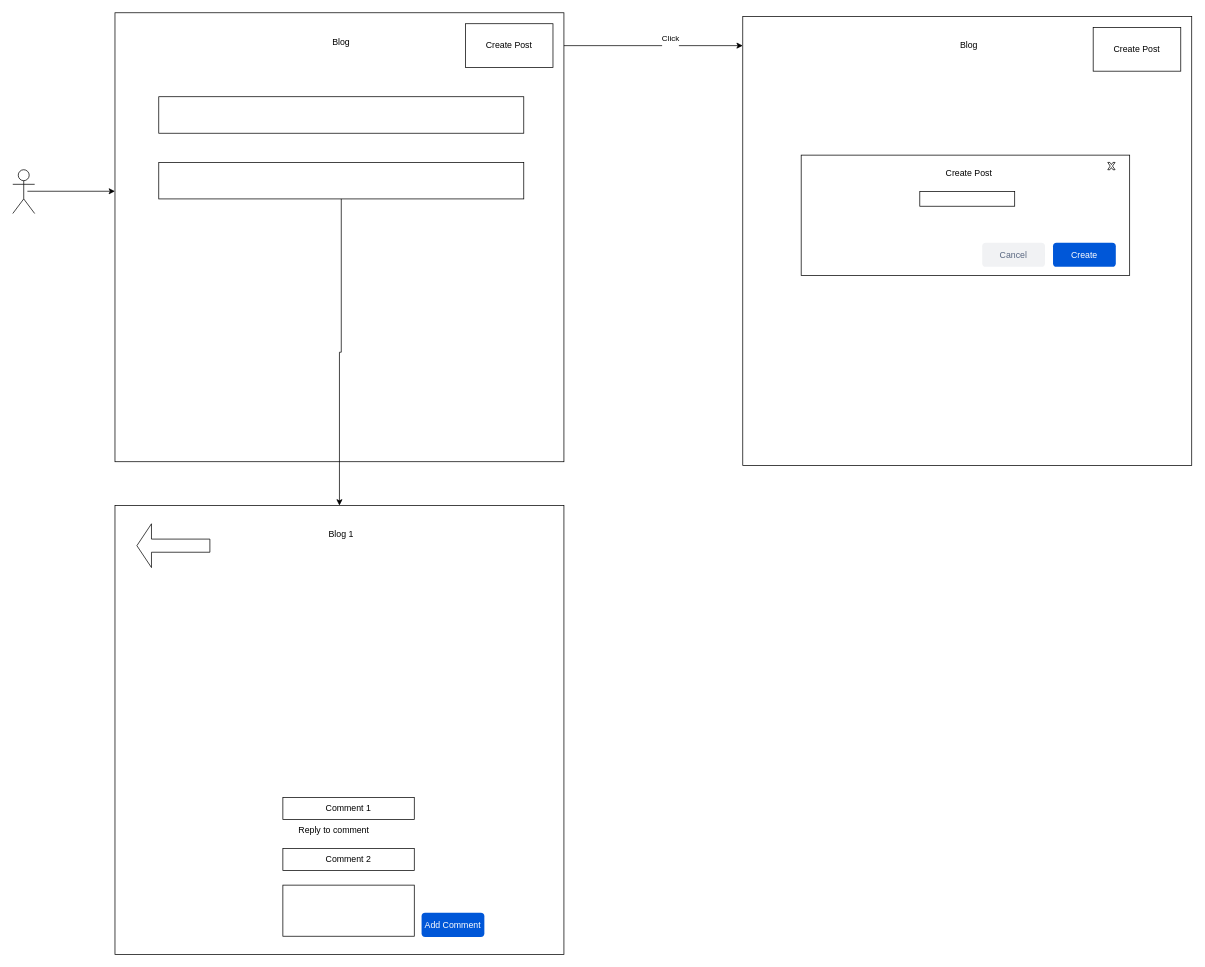
Image size: 1205x967. Some labels were removed from this diagram. The box of each missing label's shape, as (x1, y1, x2, y2) in pixels:
Actor: (12, 169, 35, 214)
Post 1: (158, 96, 524, 133)
Post 2: (158, 162, 524, 199)
Title: (919, 191, 1015, 206)
